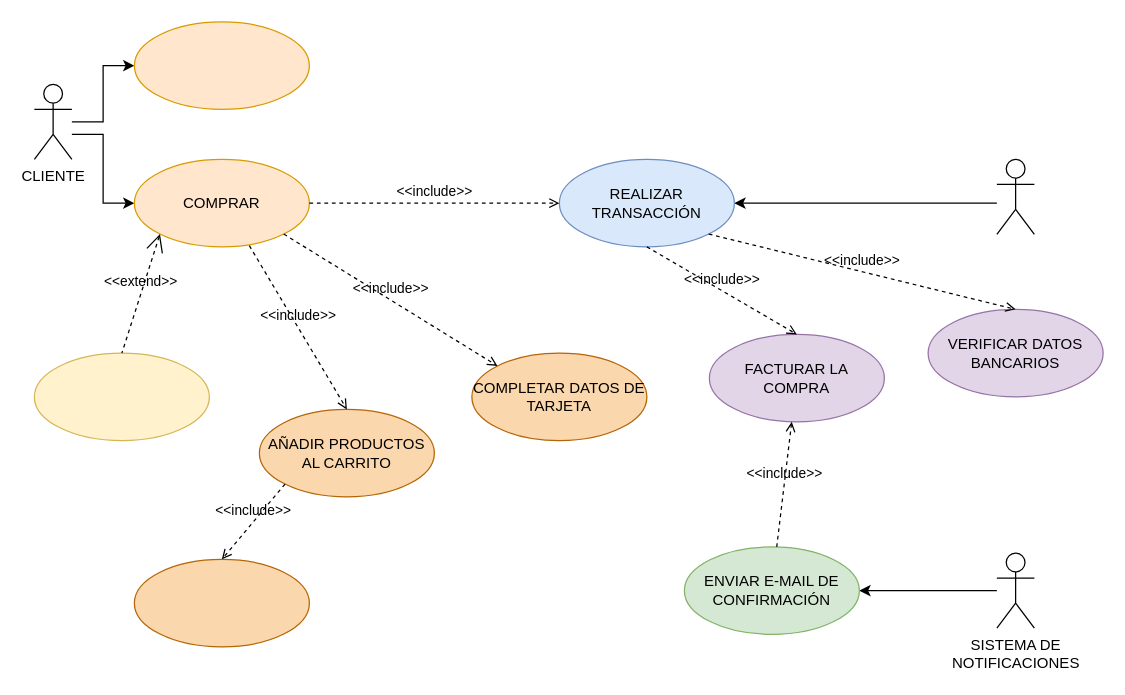
Image size: 1125x695. Some labels were removed from this diagram. Here are the shapes that lost their labels. From the top down, the centre of each, then its label:
the point at 221,65: VER ARTÍCULOS DISPONIBLES
the point at 1015,196: BANCA
the point at 121,396: AÑADIR DIRECCIÓN DE ENVÍO
the point at 221,602: SELECCIONAR PRODUCTOS
